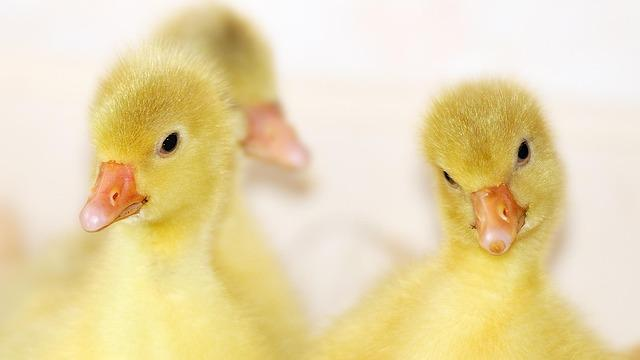Non_Gorille: (48, 24, 604, 360)
